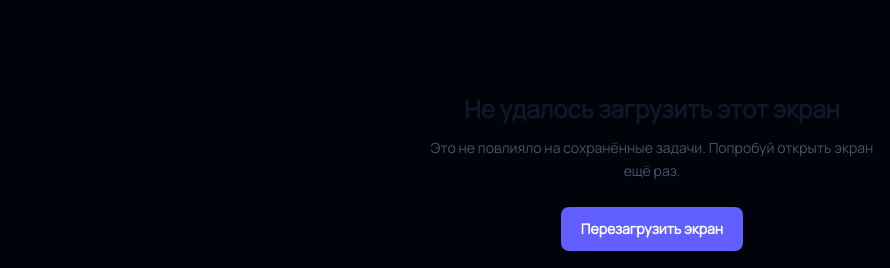
Test: AppErrorBoundary › retries rendering when the user chooses recovery
Click the button "Перезагрузить экран" at coordinates (652, 229), box [561,207,743,251]
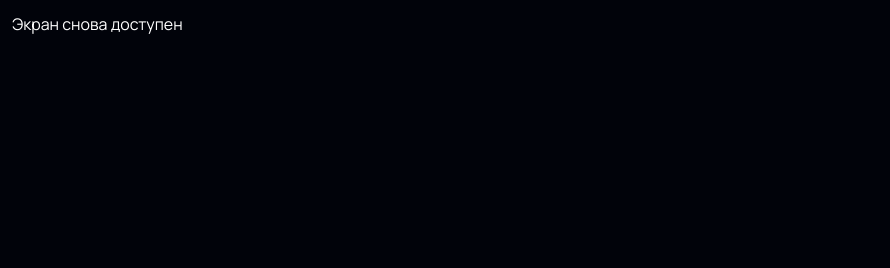
Expected: the text "Экран снова доступен" is shown, [12,13,183,35]
